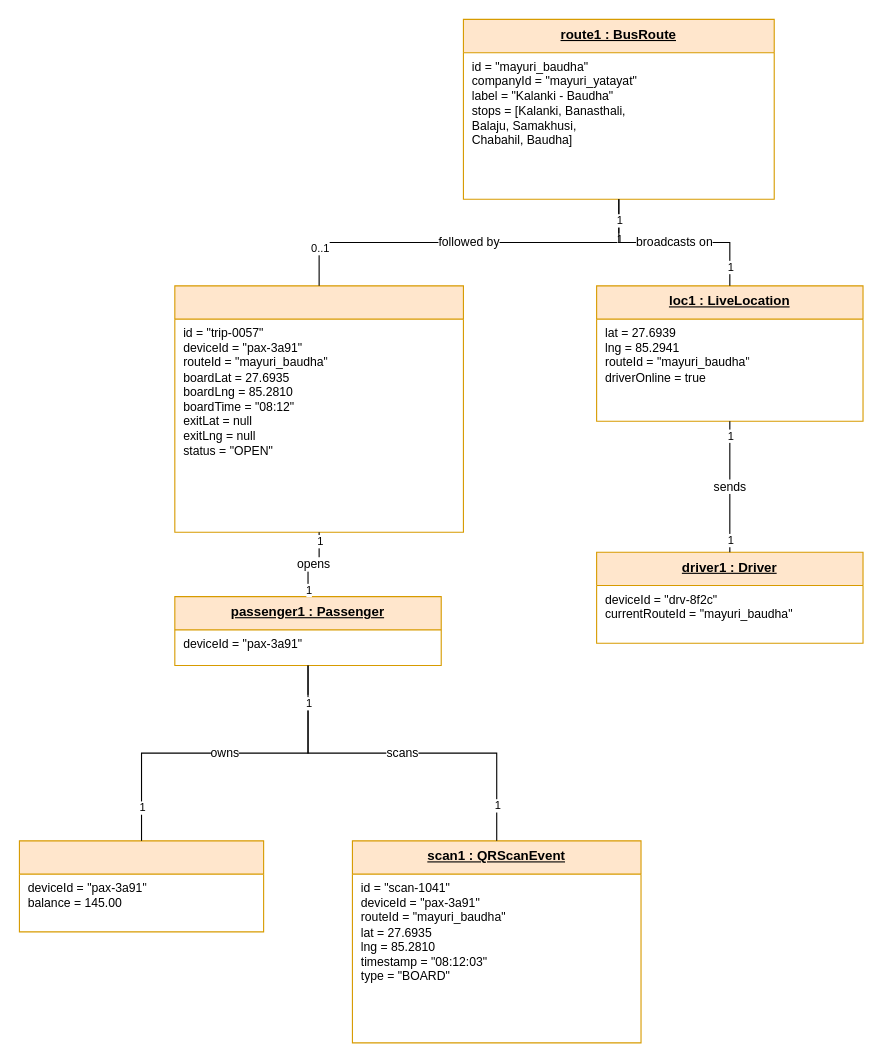
The diagram is 882 pixels wide and 1062 high, and some of its shapes have lost their labels. The shapes that lost their labels are listed below. From the top down, each one's box as (x1, y1, x2, y2) in pixels, then its label:
(174, 285, 463, 532): trip1 : Trip
(18, 840, 264, 932): wallet1 : Wallet
